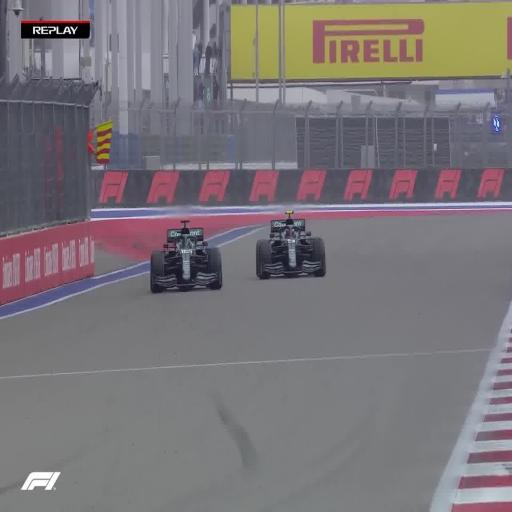f1_car: (150, 220, 222, 293), (256, 210, 326, 278)
